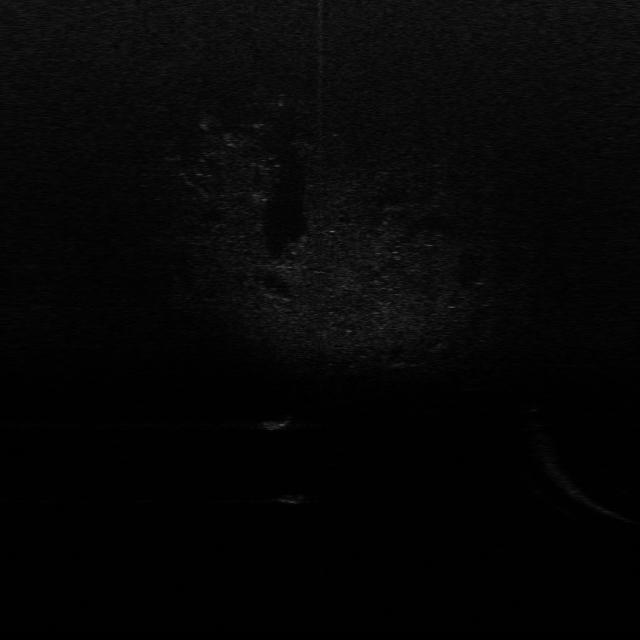cube: (273, 490, 307, 505)
square cage: (256, 411, 296, 432)
